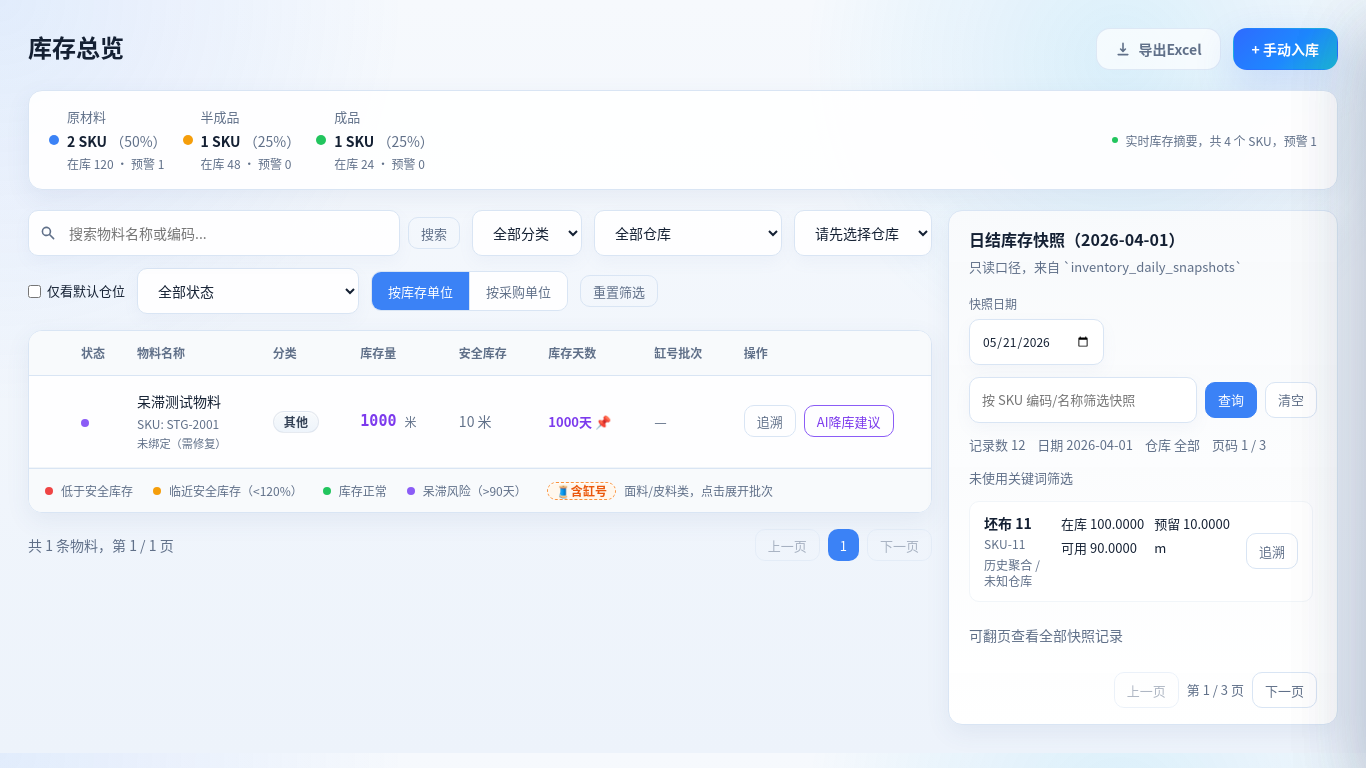
Test: InventoryPage › 呆滞库存点击 AI降库建议 应打开建议抽屉
This screenshot has width=1366, height=768.
Click the button "AI降库建议" at (849, 421), box [804,405,894,437]
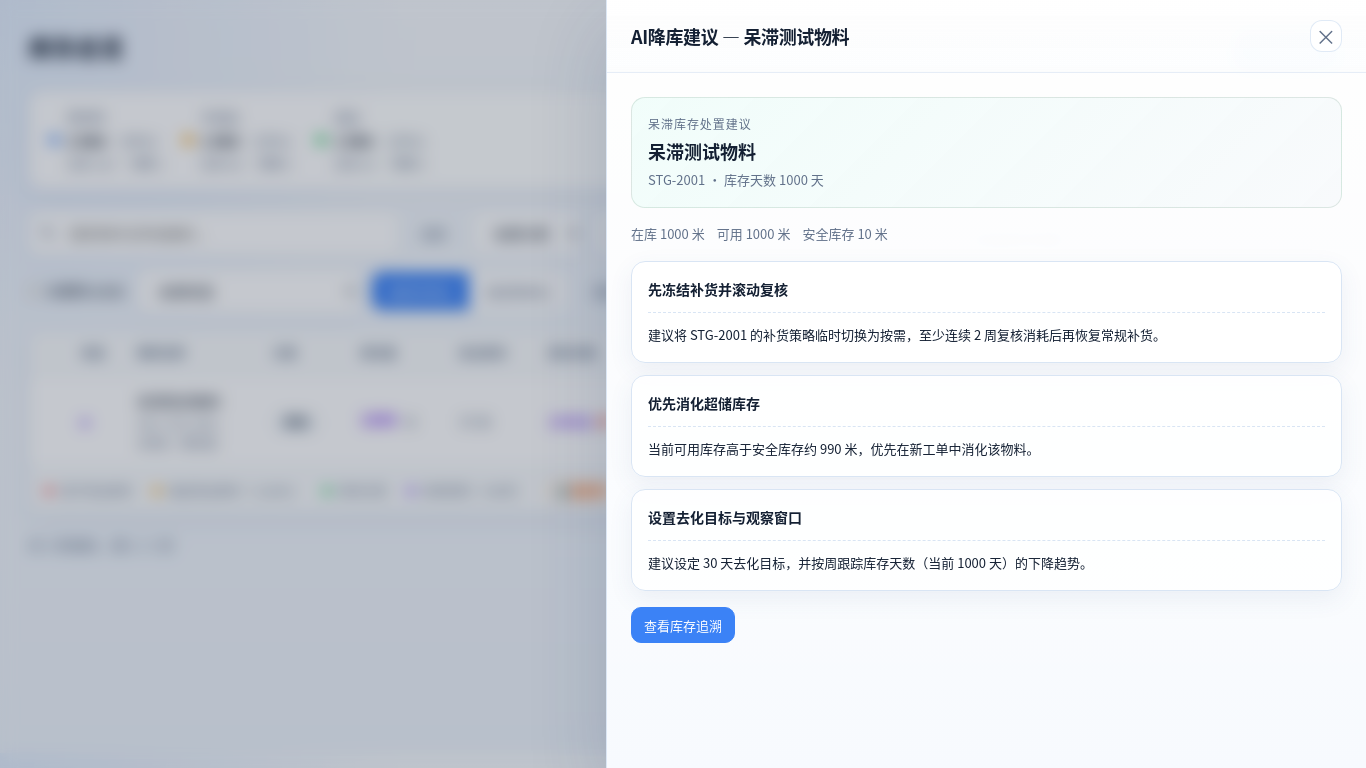
Now the text "呆滞库存处置建议" is shown, box [648,115,752,132]
Now the button "查看库存追溯" is shown, box [631,607,735,643]
